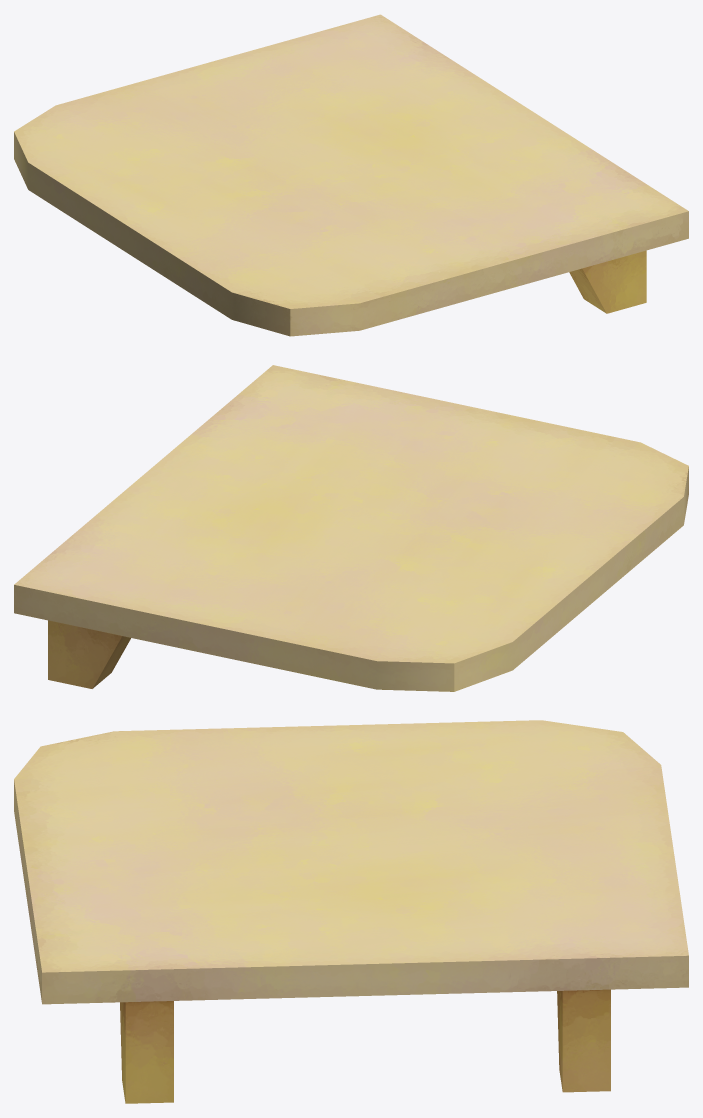
Rendered from 14_Lv1 Shelf2.fbx.
3 renders of one model, top to bottom at view 1: azimuth 30°, elevation 25°; view 2: azimuth 150°, elevation 25°; view 3: azimuth 270°, elevation 25°, orthographic. The views are drawn at different scales.
Parts seen in each view (by area): view 1: Shelf_2; view 2: Shelf_2; view 3: Shelf_2.
Part boxes in pixels (box(x1,y1,x2,y2)): Shelf_2: box(14, 14, 688, 336); Shelf_2: box(14, 365, 688, 691); Shelf_2: box(14, 720, 688, 1103).
Size of the model in its own units: 1200 by 299 by 1356.
